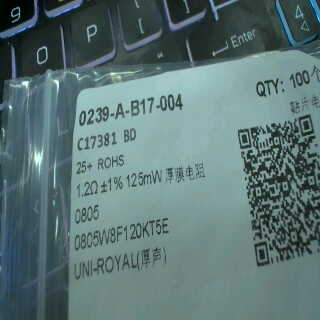1.2R: (73, 175, 101, 228)
